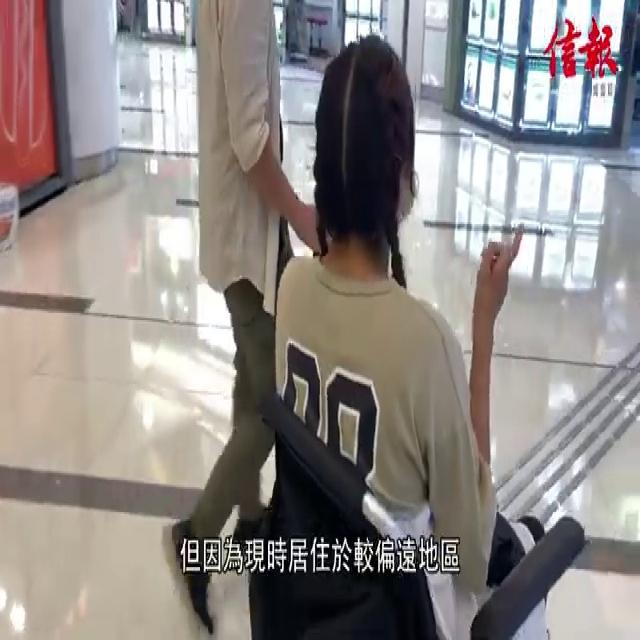wheelchairs: (226, 386, 602, 640)
